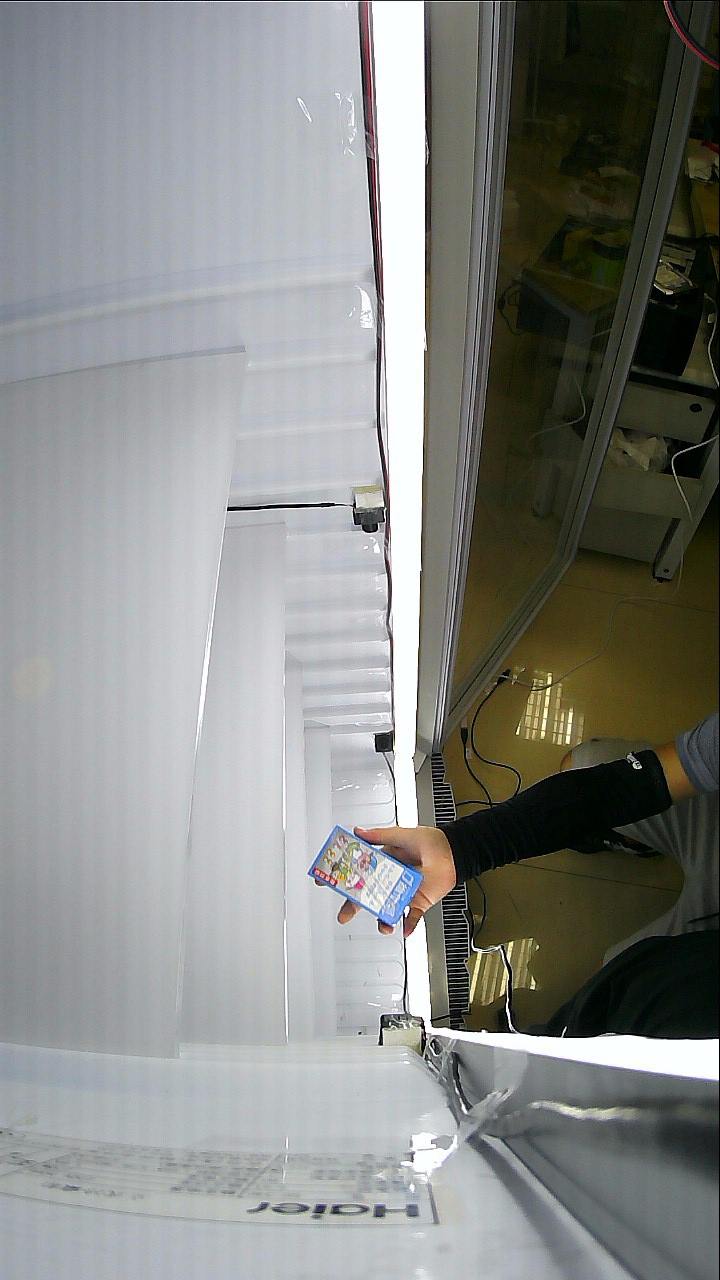VitaSoyOriginal: (312, 815, 478, 936)
